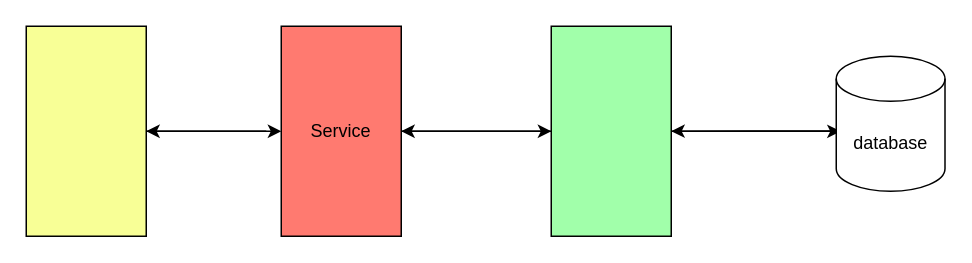
Image size: 972x263. Some labels were removed from this diagram. Here are the shapes that lost their labels. From the top down, the box of each, then its label:
(25, 25, 146, 236): Controller API Layer
(550, 25, 671, 236): DAO
